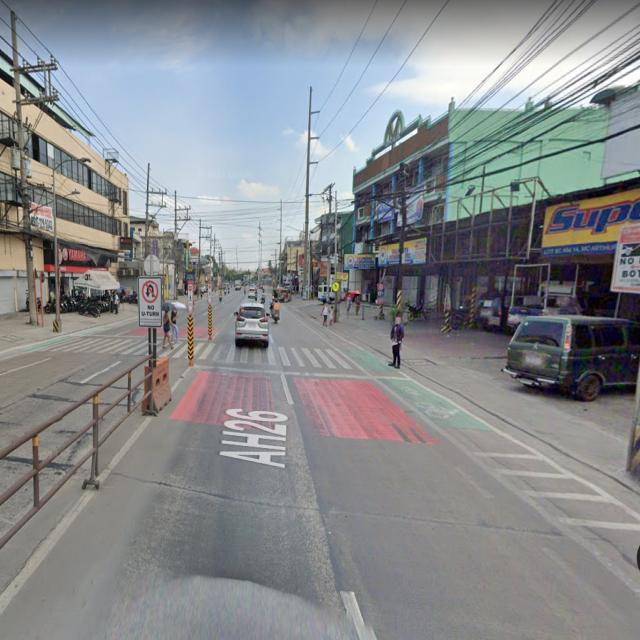bike lane: (330, 278, 341, 297)
no u turn: (137, 277, 163, 329)
